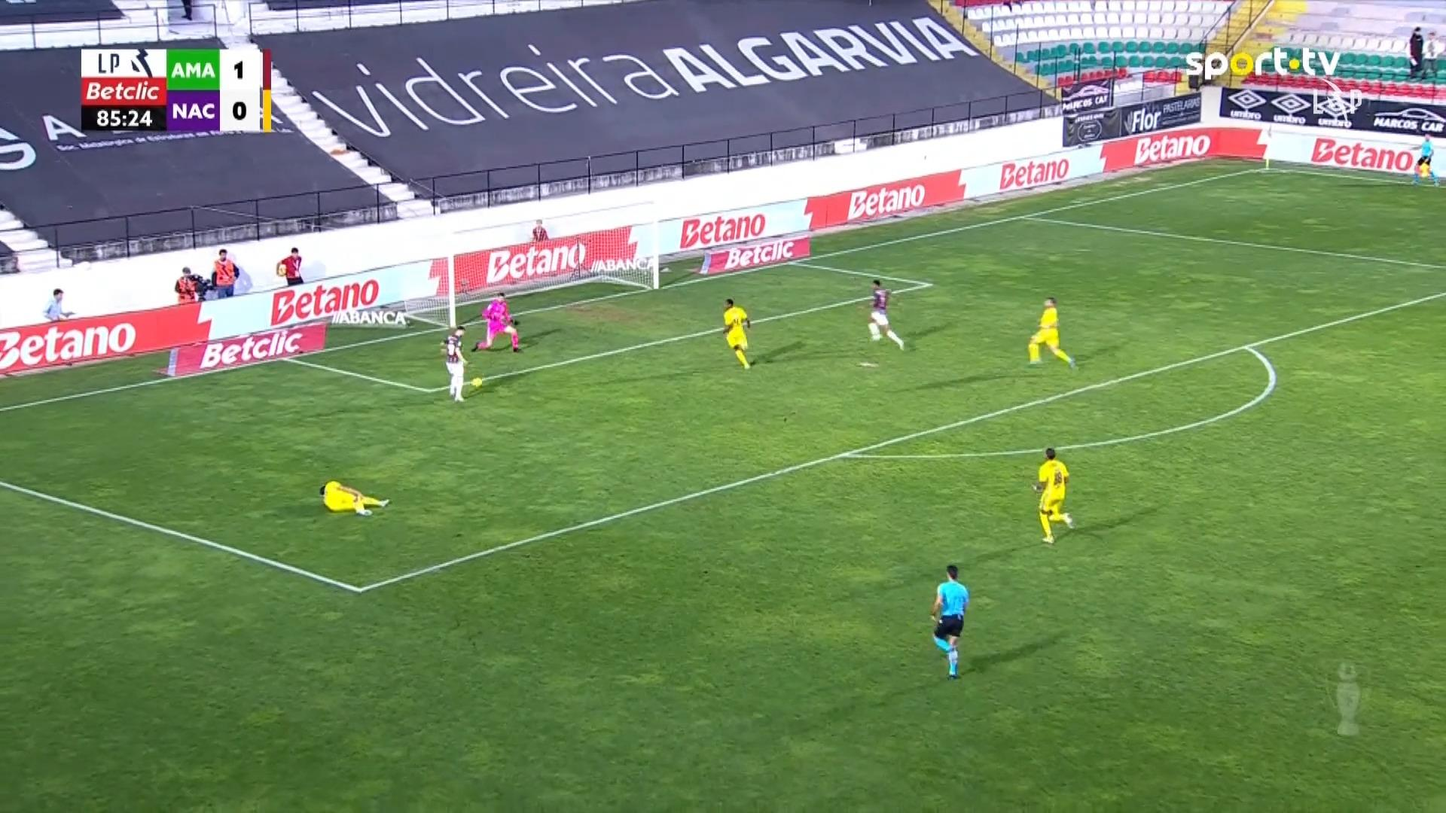goalkeeper: (472, 291, 521, 352)
player: (1032, 446, 1074, 544), (1027, 296, 1078, 370), (867, 278, 905, 350), (319, 480, 391, 517), (439, 324, 469, 402), (721, 297, 752, 370)
referee: (929, 564, 969, 680), (1411, 132, 1439, 186)
